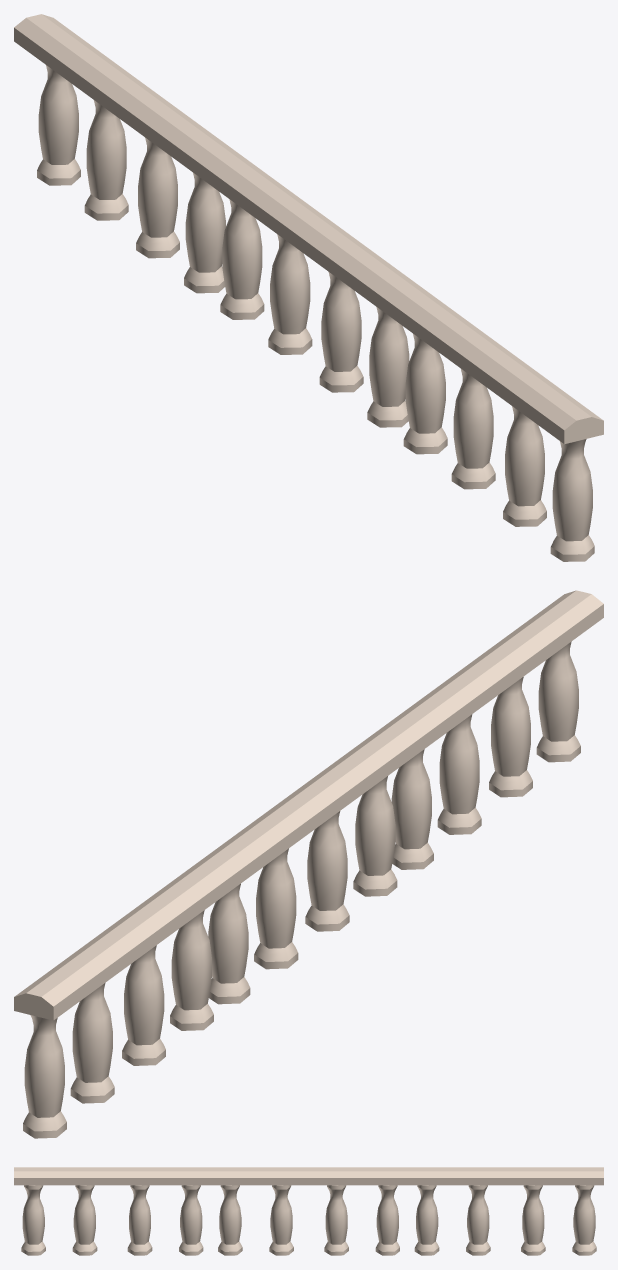
The model's file is BC_Frame_H_01.fbx.
The picture shows the model from 3 angles, top to bottom: view 1: azimuth 30°, elevation 25°; view 2: azimuth 150°, elevation 25°; view 3: azimuth 270°, elevation 25°; orthographic projection. The views are drawn at different scales.
Visible parts, largest first — view 1: BC_Frame_H_01; view 2: BC_Frame_H_01; view 3: BC_Frame_H_01.
Boxes of the visible parts, x1,y1,x2,y2 form: BC_Frame_H_01: [14, 14, 603, 561]; BC_Frame_H_01: [14, 590, 603, 1138]; BC_Frame_H_01: [14, 1167, 603, 1255].
Bounding box in the file's own units: 28.29 × 92.6 × 617.
